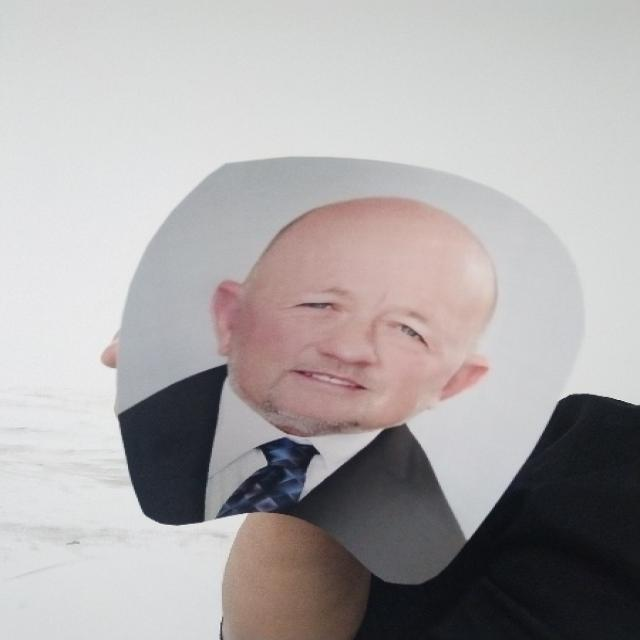live: (117, 153, 590, 585)
